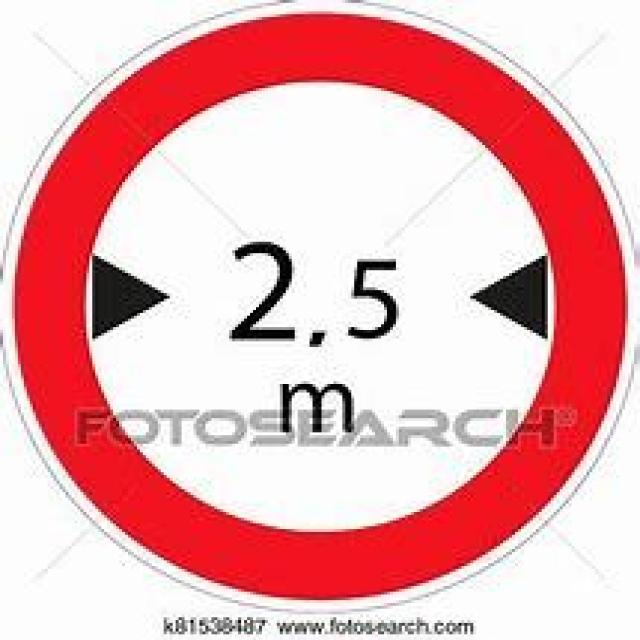WIDTH_LIMIT: (0, 0, 640, 617)
